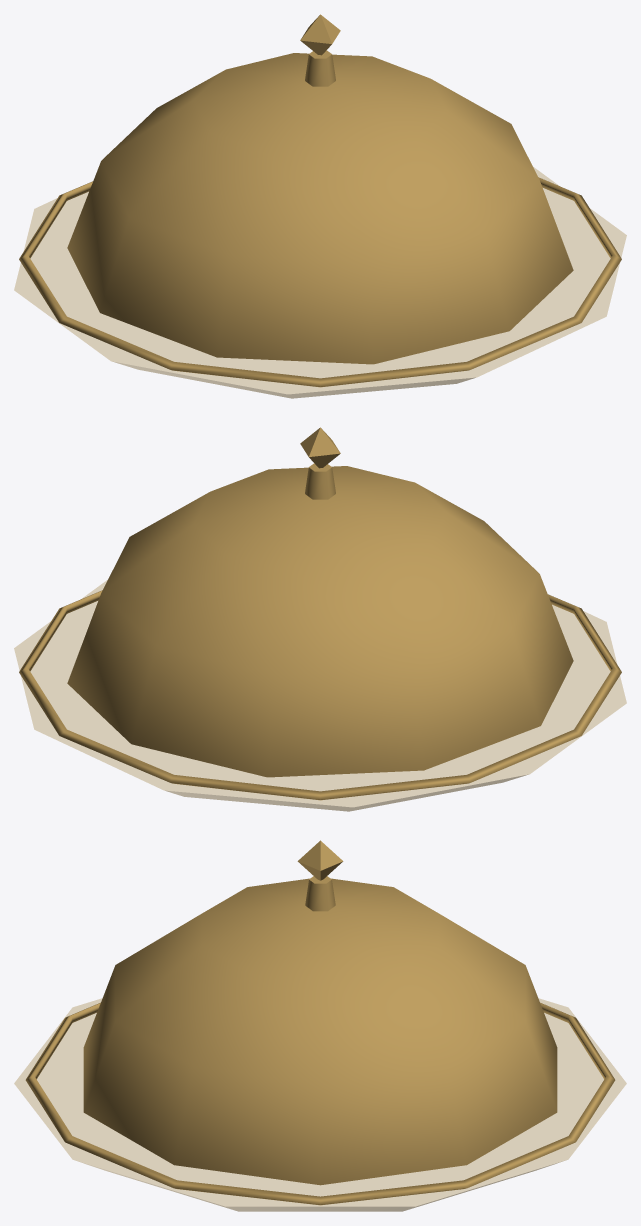
Rendered from saturday-challenge.glb.
The picture shows the model from 3 angles, top to bottom: view 1: azimuth 30°, elevation 25°; view 2: azimuth 150°, elevation 25°; view 3: azimuth 270°, elevation 25°; orthographic projection. The views are drawn at different scales.
Visible parts, largest first — view 1: saturday-challenge; view 2: saturday-challenge; view 3: saturday-challenge.
Boxes of the visible parts, box(x1,y1,x2,y2) form: saturday-challenge: box(14, 14, 626, 398); saturday-challenge: box(14, 427, 626, 811); saturday-challenge: box(14, 840, 626, 1211).
Size of the model in its own units: 0.308 by 0.152 by 0.32.
